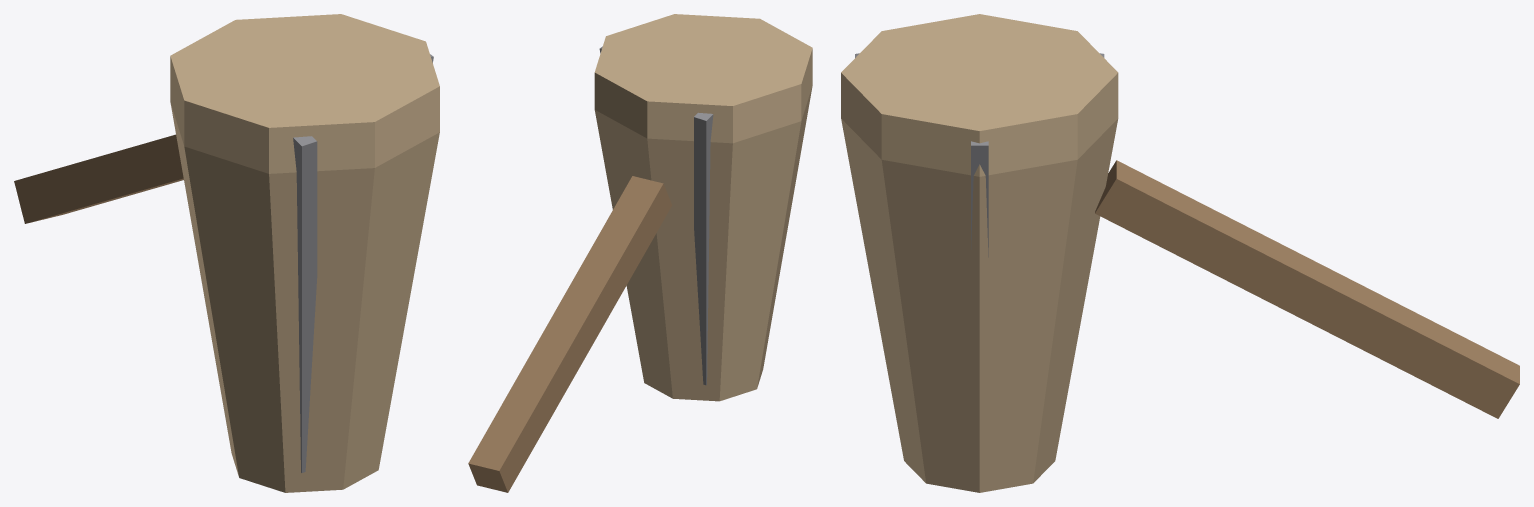
The model's file is prop-laying-top.fbx.
3 views of the same model, side by side, from view 1: azimuth 30°, elevation 25°; view 2: azimuth 150°, elevation 25°; view 3: azimuth 270°, elevation 25° (orthographic). The views are drawn at different scales.
Visible parts, largest first — view 1: prop-laying-top; view 2: prop-laying-top; view 3: prop-laying-top.
Part boxes in pixels (box(x1,y1,x2,y2)): prop-laying-top: box(14, 14, 439, 492); prop-laying-top: box(468, 14, 812, 492); prop-laying-top: box(841, 14, 1519, 492).
Size of the model in its own units: 22.31 by 34 by 53.86.
